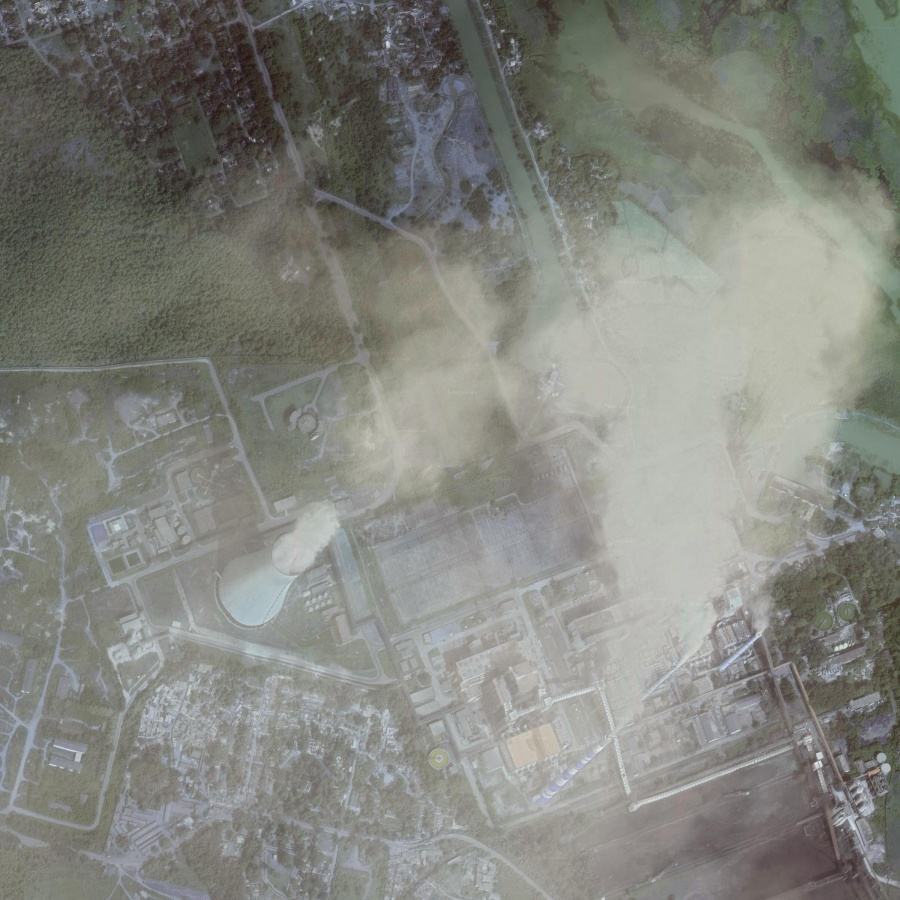PowerPlant: (499, 554, 789, 835), (208, 461, 363, 672)
